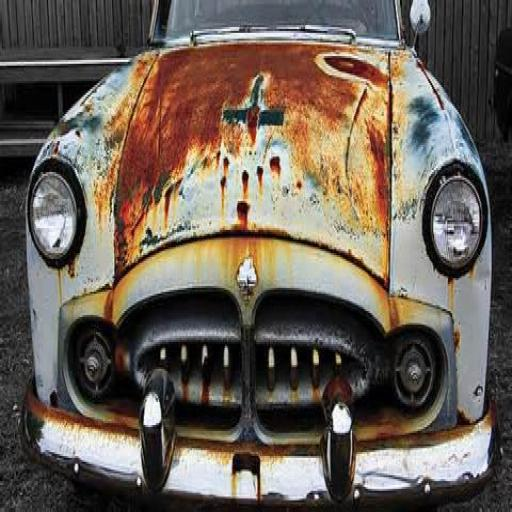corrosion: (315, 48, 402, 235)
